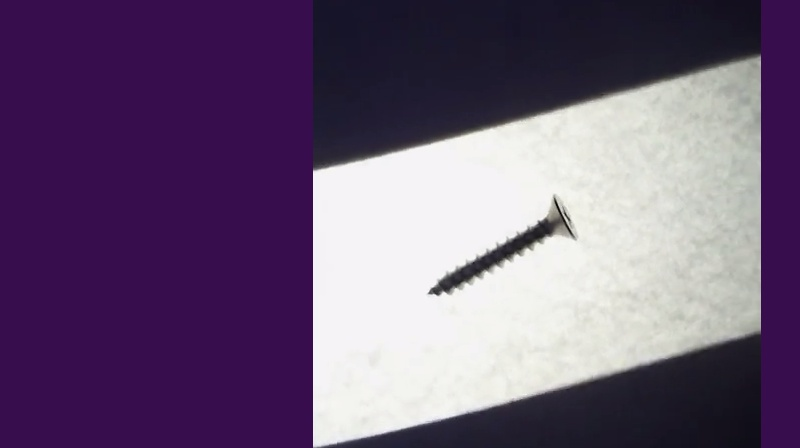S001: (425, 189, 584, 299)
